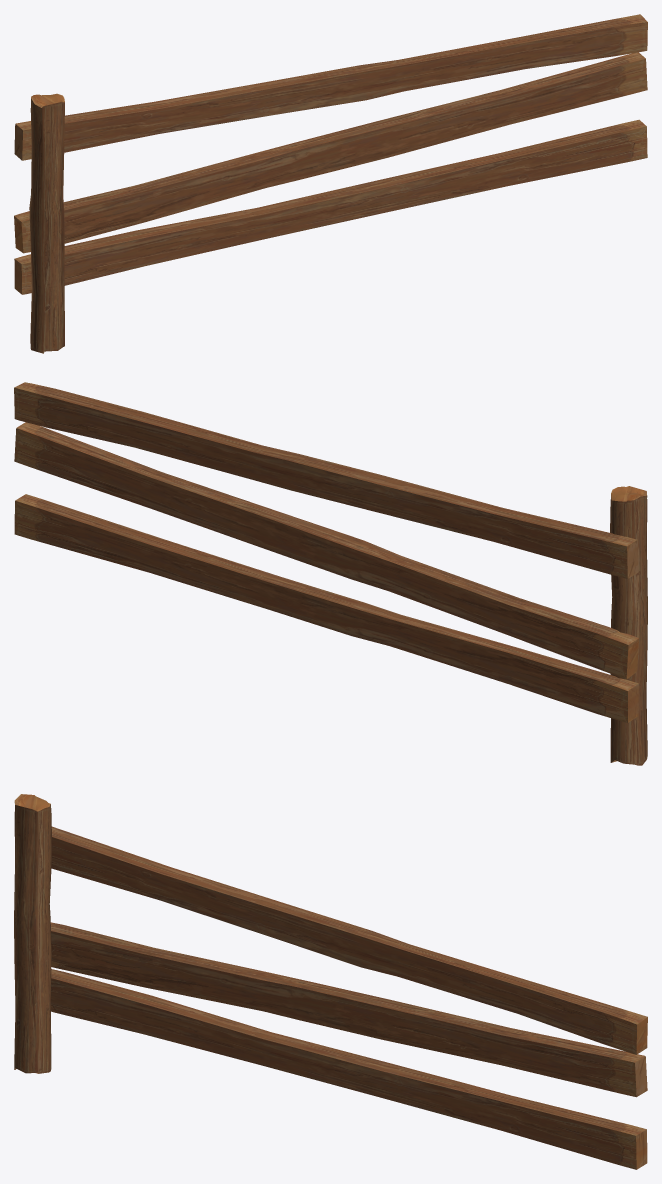
The model's file is SM_Farm_Fence_01.fbx.
3 renders of one model, top to bottom at view 1: azimuth 30°, elevation 25°; view 2: azimuth 150°, elevation 25°; view 3: azimuth 330°, elevation 25°, orthographic. The views are drawn at different scales.
Parts seen in each view (by area): view 1: SM_Farm_Fence_01_LOD0; view 2: SM_Farm_Fence_01_LOD0; view 3: SM_Farm_Fence_01_LOD0.
Part boxes in pixels (box(x1,y1,x2,y2)): SM_Farm_Fence_01_LOD0: box(14, 14, 647, 353); SM_Farm_Fence_01_LOD0: box(14, 382, 647, 765); SM_Farm_Fence_01_LOD0: box(14, 794, 647, 1169).
Size of what is drawn, in the model's own units: 293 by 118 by 29.96.
